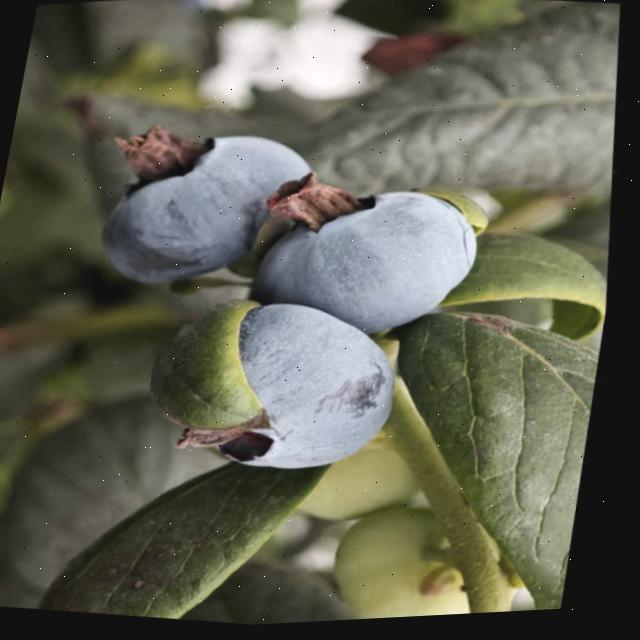RipeBlueBerry: (162, 269, 431, 505), (77, 98, 348, 319), (229, 154, 509, 367)
